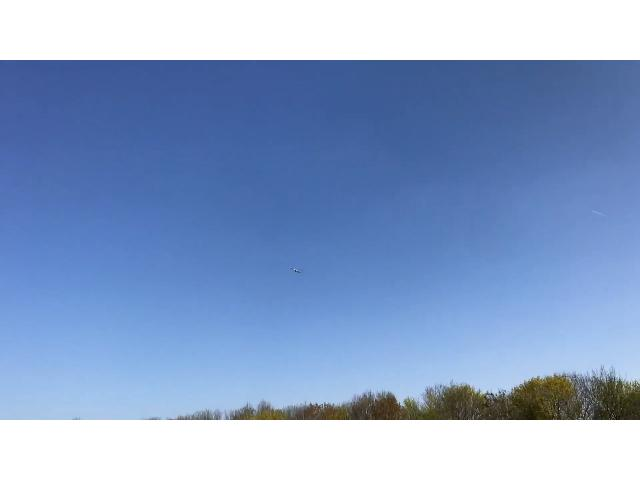Anti-Drone: (284, 254, 314, 278)
